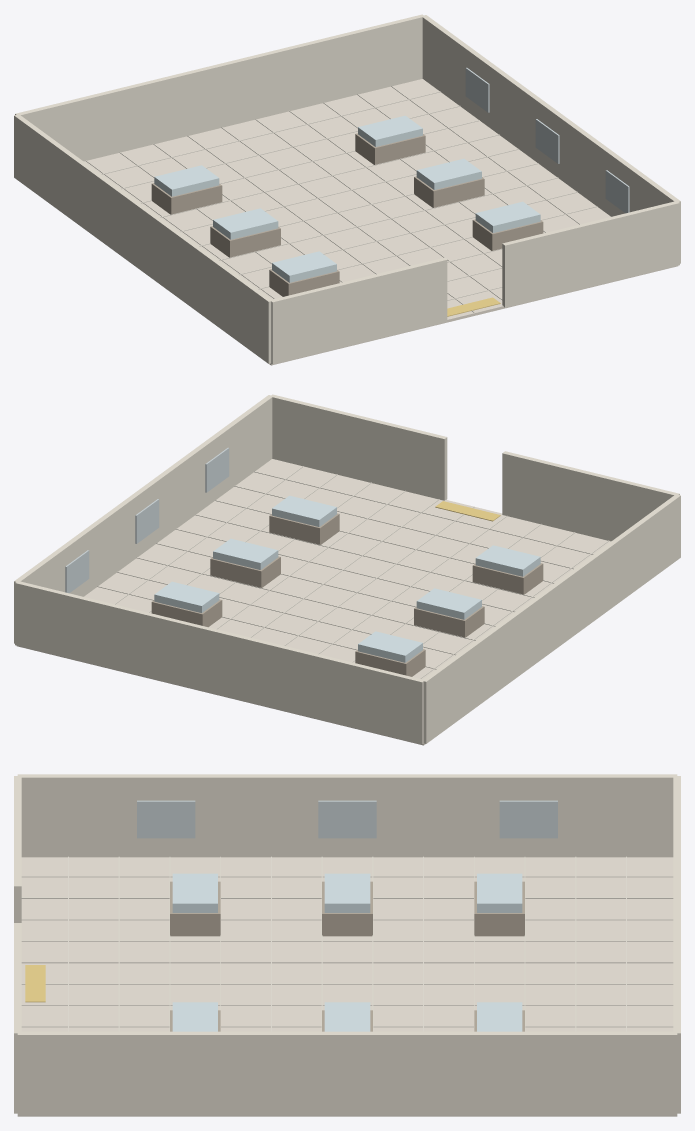
File: exhibit.glb
3 renders of one model, top to bottom at view 1: azimuth 30°, elevation 25°; view 2: azimuth 150°, elevation 25°; view 3: azimuth 270°, elevation 25°, orthographic. The views are drawn at different scales.
Parts seen in each view (by area): view 1: room_exhibit__E8DDC2, room_exhibit__E0D3BC, room_exhibit__BFDDE6, room_exhibit__8B7B66, room_exhibit__E6DCC6, room_exhibit__B4C7CD; view 2: room_exhibit__E8DDC2, room_exhibit__E0D3BC, room_exhibit__BFDDE6, room_exhibit__8B7B66, room_exhibit__E6DCC6, room_exhibit__B4C7CD, room_exhibit__E7B54A; view 3: room_exhibit__E8DDC2, room_exhibit__E0D3BC, room_exhibit__E6DCC6, room_exhibit__BFDDE6, room_exhibit__B4C7CD, room_exhibit__8B7B66, room_exhibit__E7B54A.
Part boxes in pixels (box(x1,y1,x2,y2)): room_exhibit__E8DDC2: box(14, 14, 680, 364); room_exhibit__E0D3BC: box(84, 79, 677, 365); room_exhibit__BFDDE6: box(154, 115, 540, 282); room_exhibit__8B7B66: box(151, 133, 543, 296); room_exhibit__E6DCC6: box(85, 86, 597, 312); room_exhibit__B4C7CD: box(465, 67, 629, 213); room_exhibit__E8DDC2: box(14, 394, 680, 744); room_exhibit__E0D3BC: box(17, 459, 610, 745); room_exhibit__BFDDE6: box(154, 495, 540, 662); room_exhibit__8B7B66: box(151, 513, 543, 676); room_exhibit__E6DCC6: box(97, 466, 609, 678); room_exhibit__B4C7CD: box(65, 447, 229, 593); room_exhibit__E7B54A: box(435, 501, 500, 521); room_exhibit__E8DDC2: box(14, 774, 680, 1115); room_exhibit__E0D3BC: box(17, 857, 677, 1116); room_exhibit__E6DCC6: box(21, 856, 673, 1031); room_exhibit__BFDDE6: box(172, 873, 522, 1031); room_exhibit__B4C7CD: box(137, 800, 557, 838); room_exhibit__8B7B66: box(170, 881, 524, 1031); room_exhibit__E7B54A: box(25, 965, 45, 1002).
Bounding box in the file's own units: 24.3 × 3.62 × 26.3.
